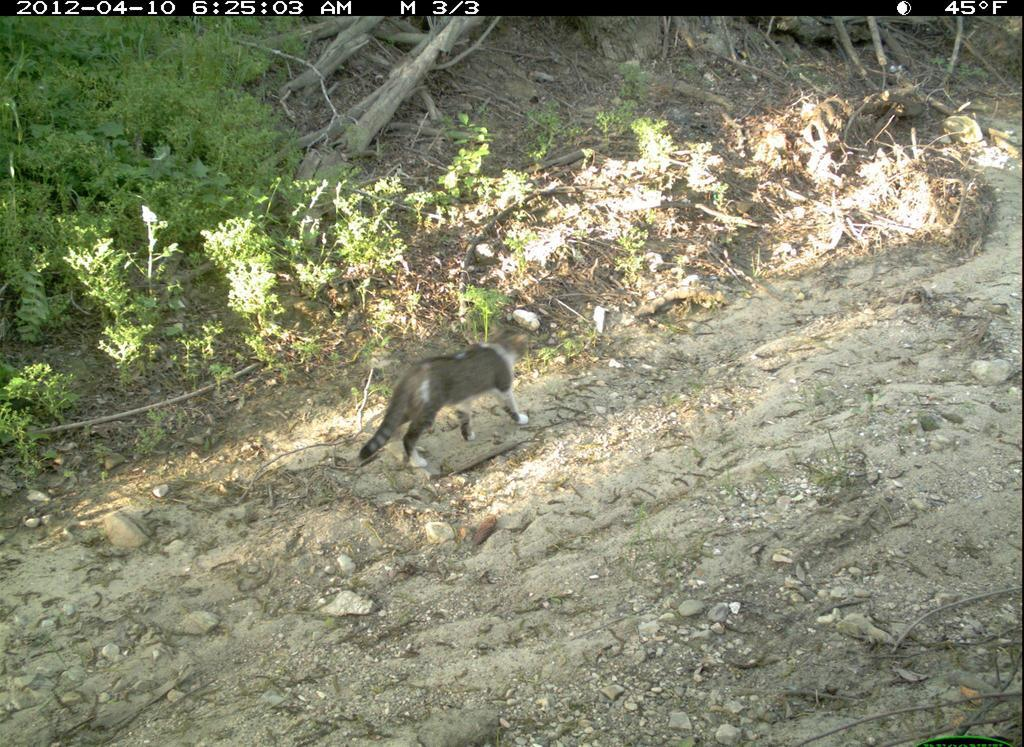cat: (353, 318, 536, 481)
